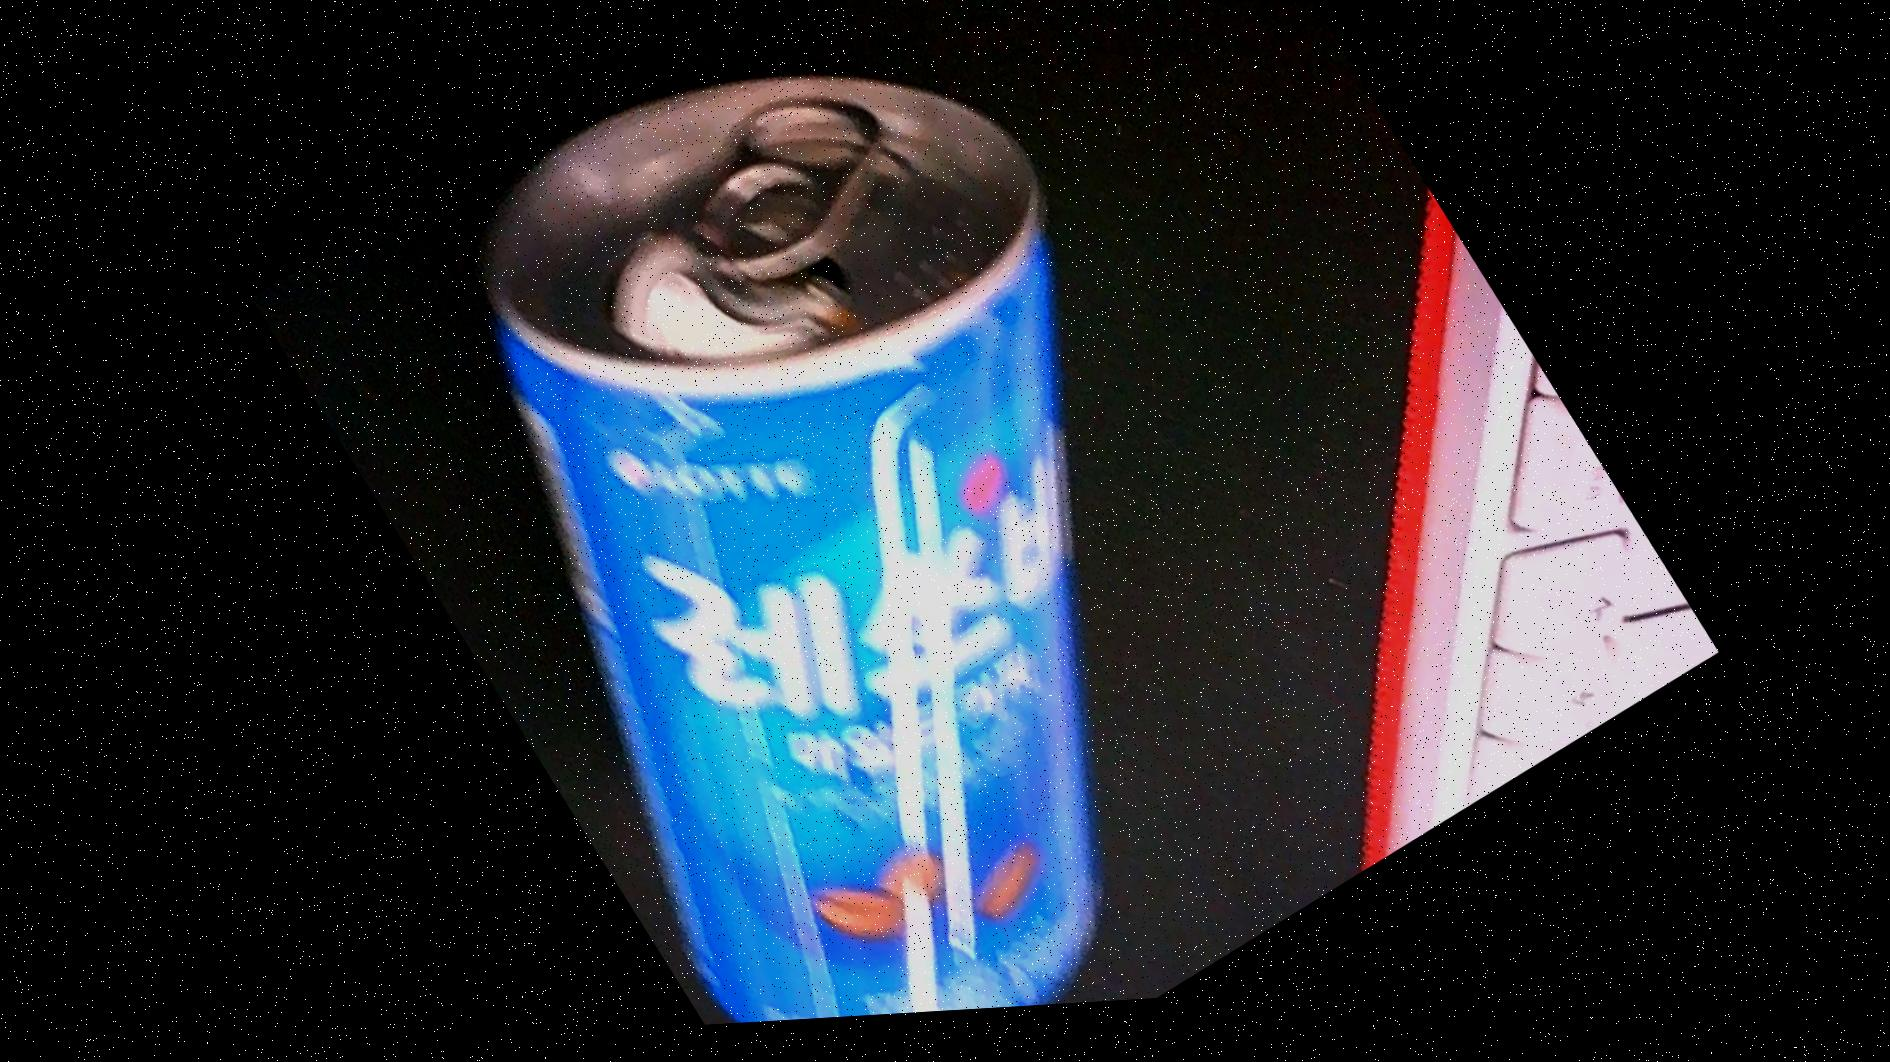letsbe: (253, 0, 1421, 1050)
